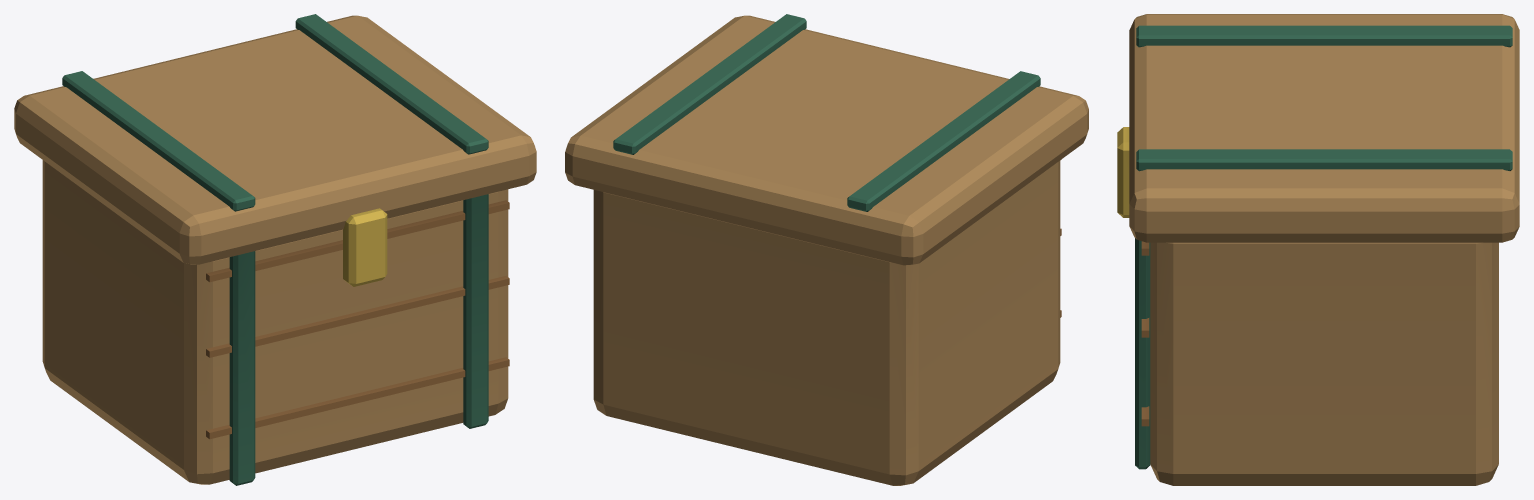
Rendered from storage.glb.
3 renders of one model, left to right at view 1: azimuth 30°, elevation 25°; view 2: azimuth 150°, elevation 25°; view 3: azimuth 270°, elevation 25°, orthographic. The views are drawn at different scales.
Parts seen in each view (by area): view 1: storage; view 2: storage; view 3: storage.
Part boxes in pixels (x1,y1,x2,y2): storage: [14, 14, 536, 485]; storage: [565, 14, 1088, 485]; storage: [1117, 14, 1519, 485].
Size of the model in its own units: 0.64 by 0.502 by 0.5775.
